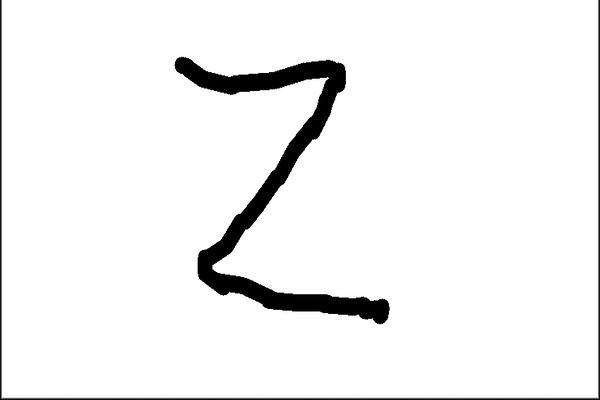Z: (166, 51, 395, 330)
